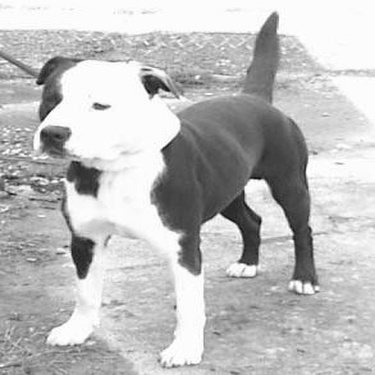dog: (14, 4, 326, 371)
